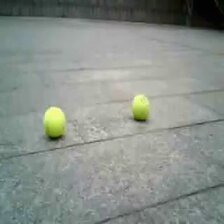tennis: (43, 108, 65, 138), (131, 94, 148, 120)
